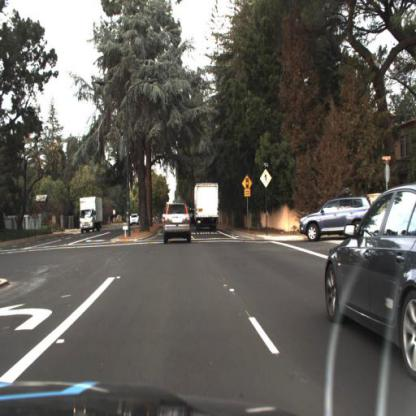car: (322, 178, 415, 380), (299, 198, 372, 244), (159, 196, 195, 253), (191, 181, 224, 235), (78, 192, 107, 240), (131, 213, 141, 225)
truck: (195, 182, 221, 233), (79, 195, 103, 233)
